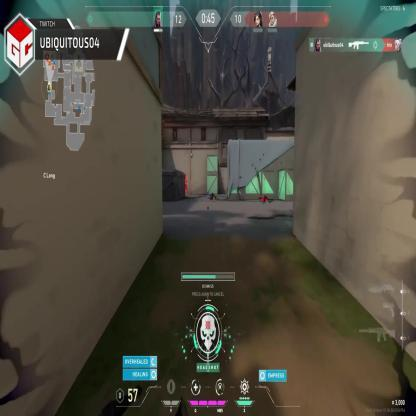enemy: (183, 173, 188, 196)
enemy_head: (184, 173, 187, 178)
